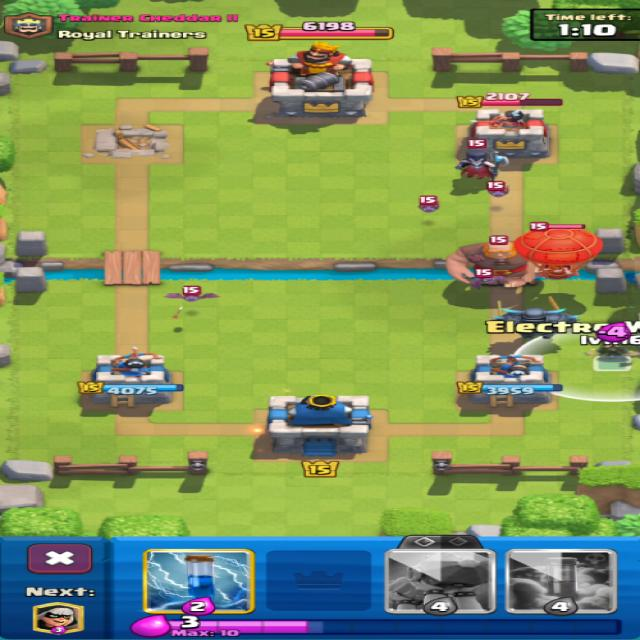Enemy-Balloon: (506, 227, 600, 280)
Enemy-Bat: (165, 286, 218, 301), (474, 269, 506, 289), (488, 180, 508, 197), (419, 196, 439, 212)
Enemy-Giant: (448, 242, 532, 287)
Enemy-KingTower-Activated: (270, 44, 374, 116)
Enemy-NightWitch: (456, 141, 510, 179)
Enemy-PrincessTower: (469, 108, 549, 158)
Player-KingTower: (266, 393, 372, 455)
Player-PEKKA: (494, 297, 577, 338)
Player-PrincessTower: (78, 347, 183, 406), (460, 355, 558, 406)
